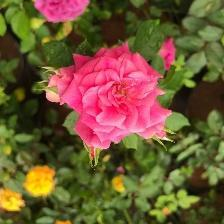rose: (51, 48, 175, 151), (36, 1, 92, 26), (25, 166, 60, 198)
